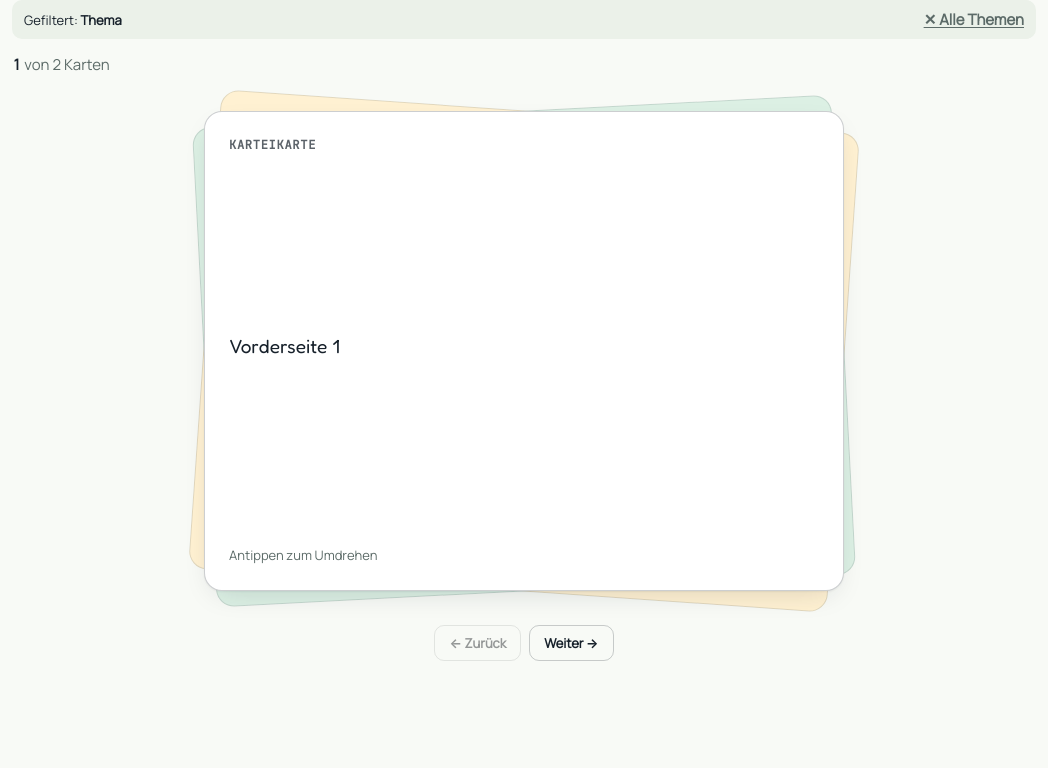
Flashcards (F-110/F-111, nur Karteikarten) › offline (F-42) › liest die Karten aus der lokalen Kopie, bewertet lokal und ruft den Server nicht an
Click the text "Vorderseite 1". click: [284, 346]
box: x1=229 y1=334 x2=340 y2=357
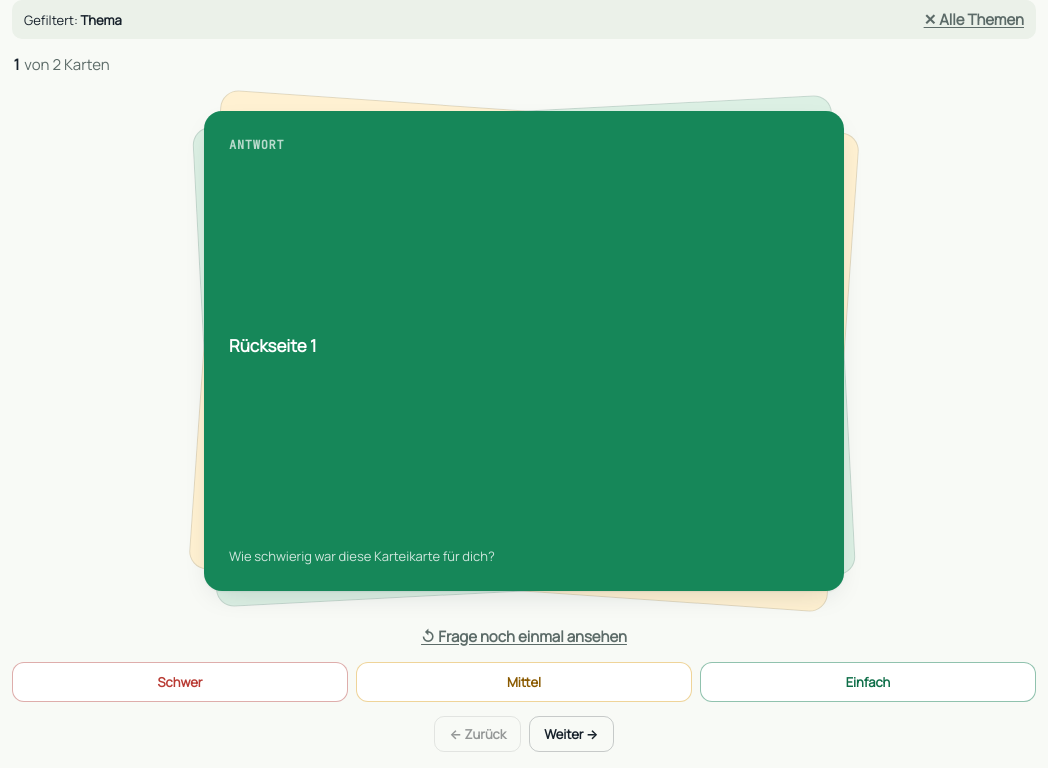
Click the button "Mittel". click: [524, 682]
box: x1=356 y1=662 x2=692 y2=702
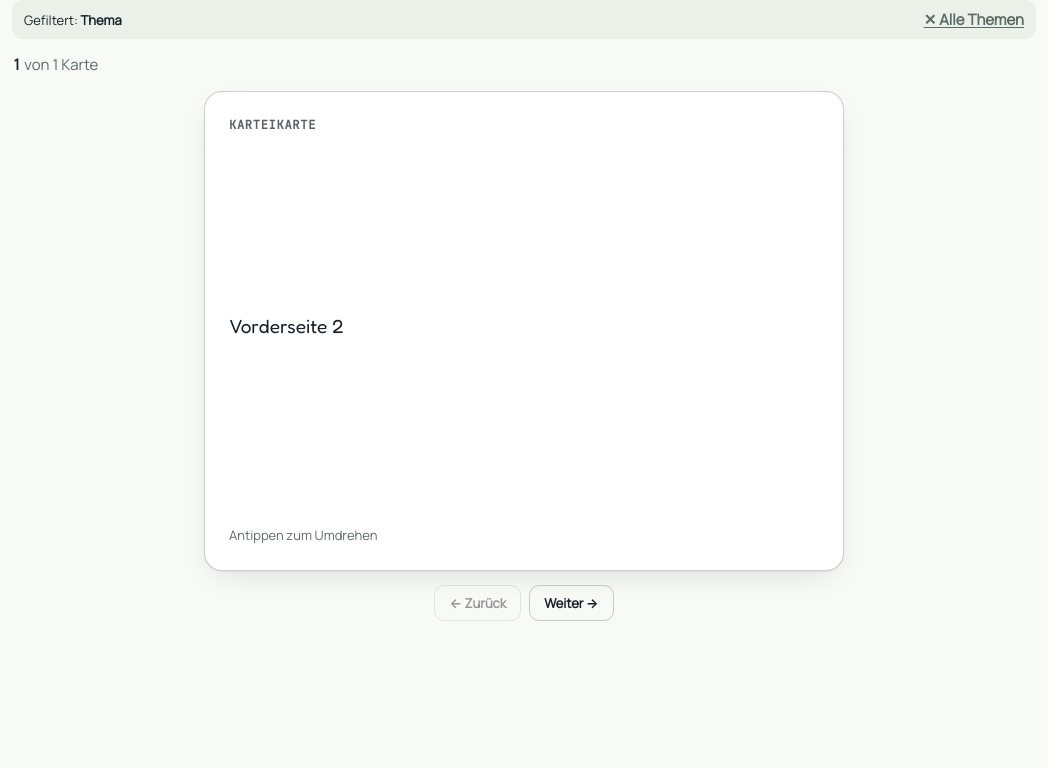
Result: the text "Vorderseite 2" is shown at x1=229 y1=314 x2=344 y2=337
Result: the text "Vorderseite 1" is gone
